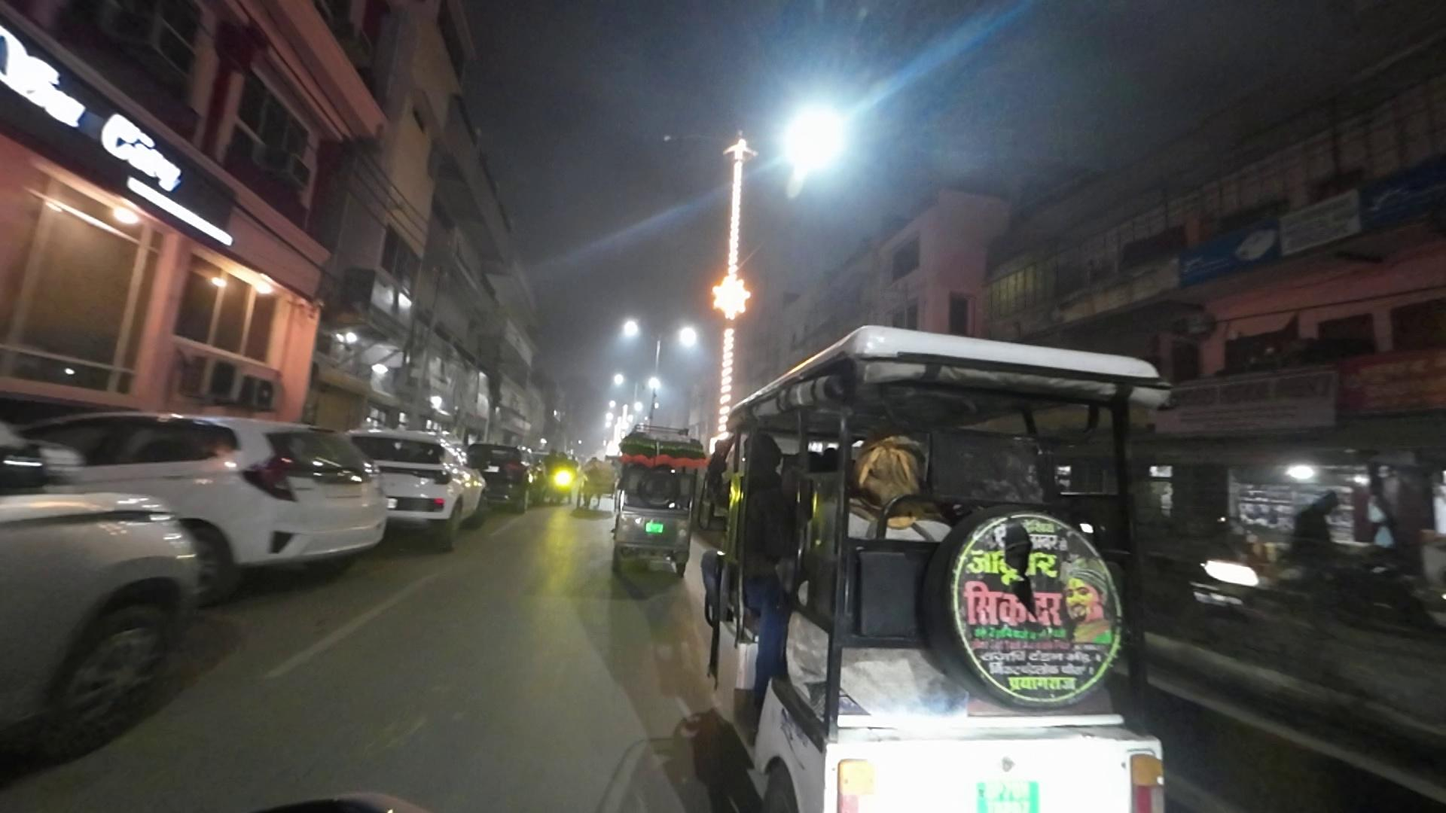streetlight: (660, 130, 729, 147)
